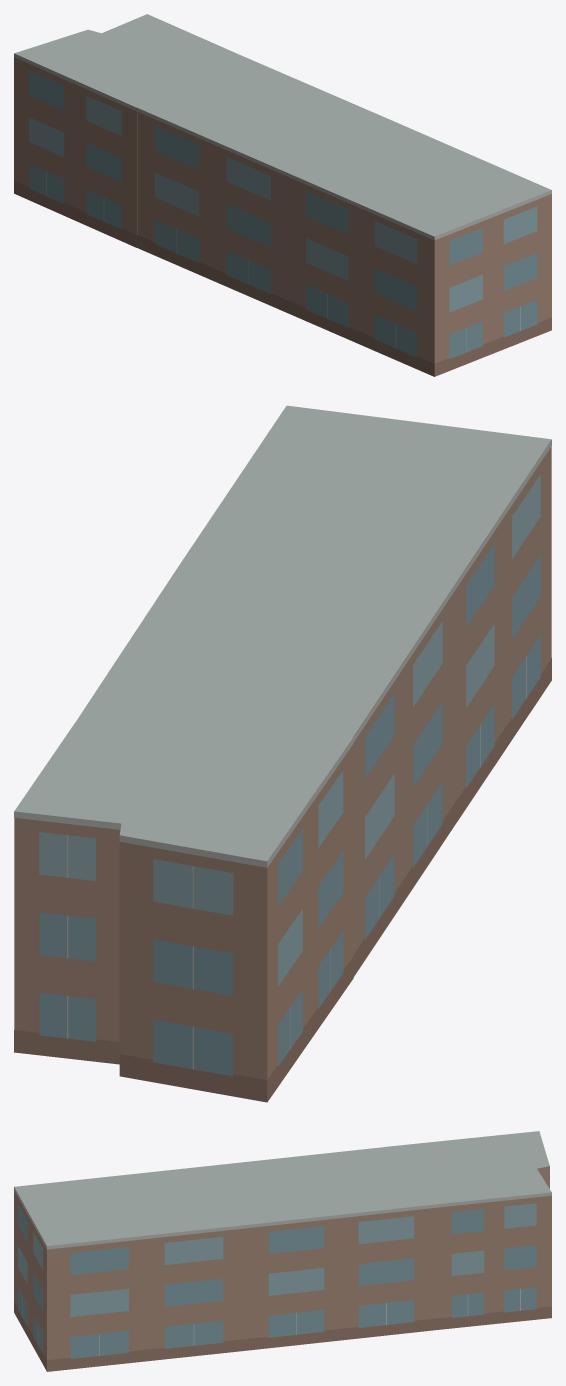
File: survey-upis-32980123.glb
3 views of the same model, one above another, from view 1: azimuth 30°, elevation 25°; view 2: azimuth 150°, elevation 25°; view 3: azimuth 270°, elevation 25° (orthographic). The views are drawn at different scales.
Parts seen in each view (by area): view 1: survey-upis-32980123.tmp; view 2: survey-upis-32980123.tmp; view 3: survey-upis-32980123.tmp.
Boxes of the visible parts, x1,y1,x2,y2 form: survey-upis-32980123.tmp: (14, 14, 551, 376); survey-upis-32980123.tmp: (14, 405, 551, 1102); survey-upis-32980123.tmp: (14, 1131, 551, 1371).
Bounding box in the file's own units: 17.99 × 9.15 × 35.5.
